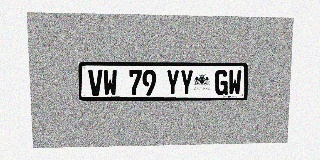7: (128, 70, 142, 96)
9: (142, 70, 156, 95)
G: (215, 70, 228, 95)
V: (88, 69, 103, 96)
W: (103, 69, 117, 96), (228, 70, 242, 95)
Y: (166, 70, 179, 95), (180, 70, 193, 95)
